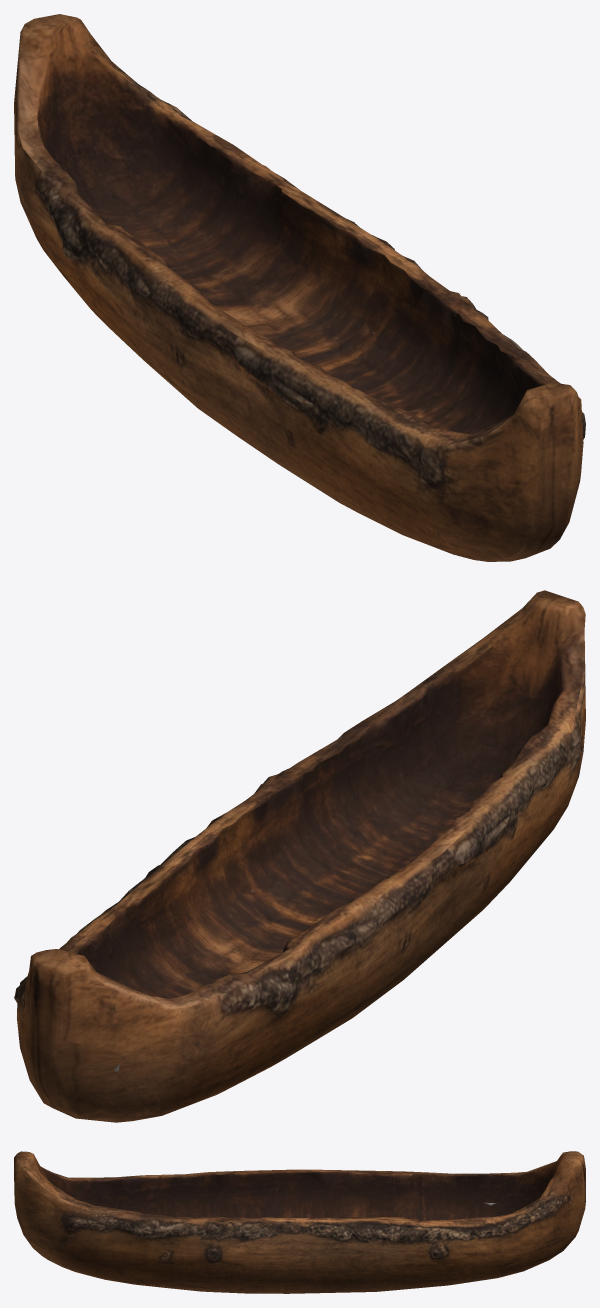
3 views of the same model, one above another, from view 1: azimuth 30°, elevation 25°; view 2: azimuth 150°, elevation 25°; view 3: azimuth 270°, elevation 25° (orthographic). The views are drawn at different scales.
Parts seen in each view (by area): view 1: dugout-canoe.001; view 2: dugout-canoe.001; view 3: dugout-canoe.001.
Part boxes in pixels (x1=…): dugout-canoe.001: x1=14, y1=14, x2=585, y2=561; dugout-canoe.001: x1=14, y1=590, x2=585, y2=1122; dugout-canoe.001: x1=14, y1=1151, x2=585, y2=1293.
Bounding box in the file's own units: 0.9562 × 0.95 × 3.8.
1 material, 1 textured.
